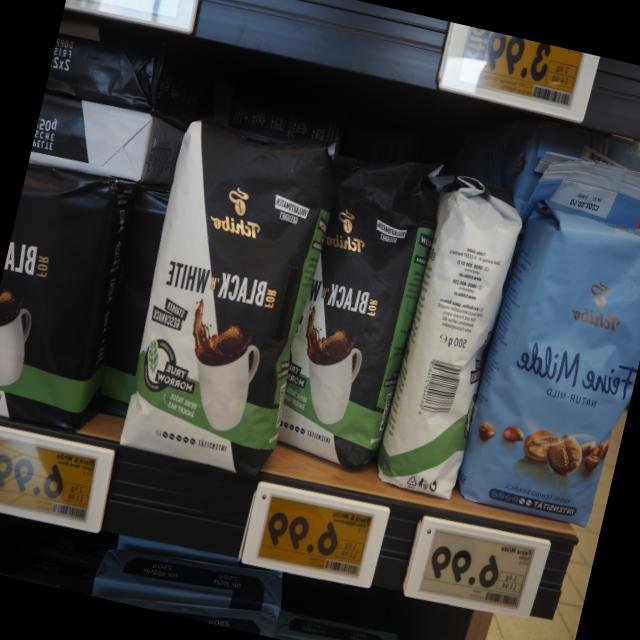BW Bohne: (104, 102, 353, 487), (272, 134, 452, 484), (370, 160, 538, 508)
BW Gemahlen: (0, 154, 134, 444)
FM Bohne: (457, 193, 640, 537)
